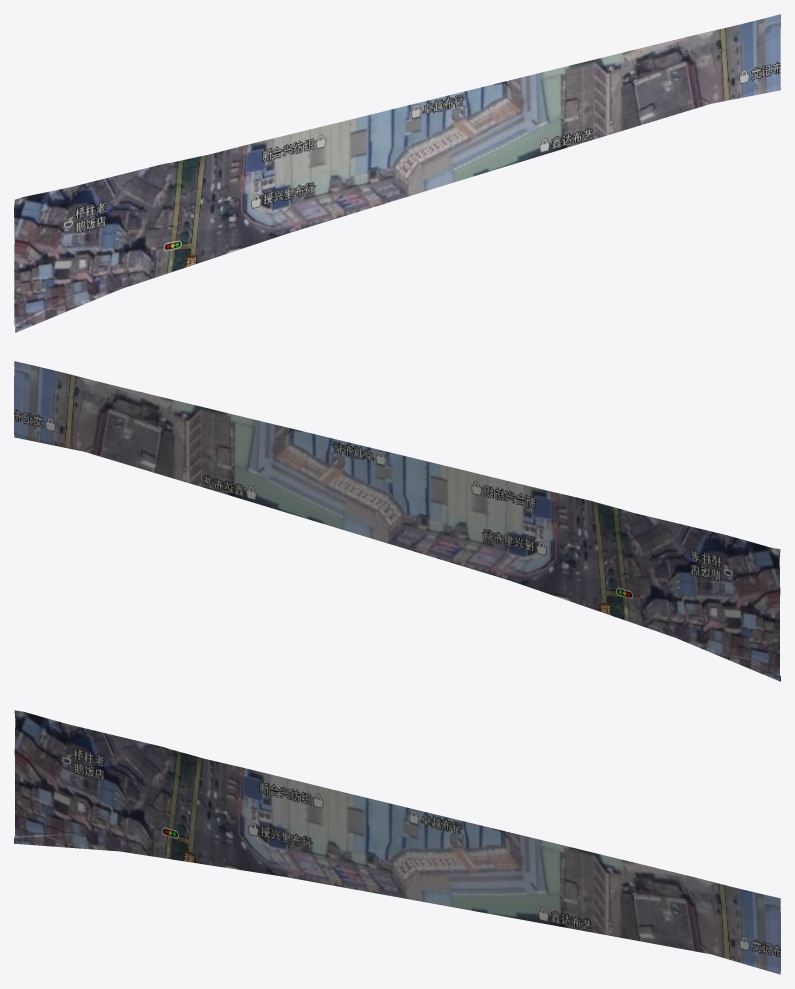
3 views of the same model, one above another, from view 1: azimuth 30°, elevation 25°; view 2: azimuth 150°, elevation 25°; view 3: azimuth 330°, elevation 25° (orthographic).
Visible parts, largest first — view 1: 0_2_3_0_0_0; view 2: 0_2_3_0_0_0; view 3: 0_2_3_0_0_0.
Boxes of the visible parts, left/top/right/bottom form: 0_2_3_0_0_0: left=14, top=14, right=780, bottom=332; 0_2_3_0_0_0: left=14, top=361, right=780, bottom=681; 0_2_3_0_0_0: left=14, top=710, right=780, bottom=974.
Bounding box in the file's own units: 486 × 80.6 × 3.32.
Materials: 1 (1 with a texture image).
